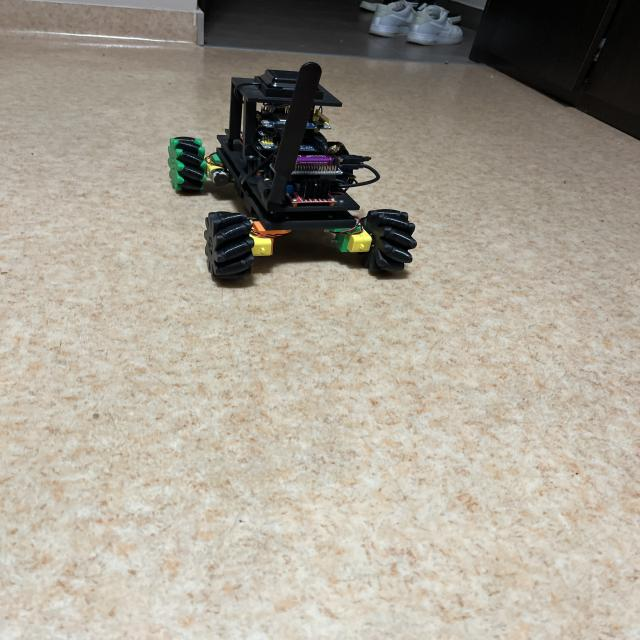robot: (168, 62, 417, 278)
